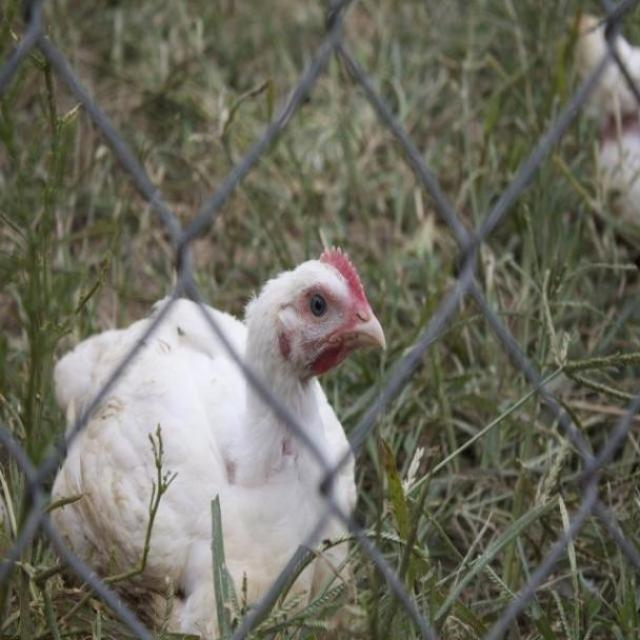Chicken: (31, 242, 382, 625)
